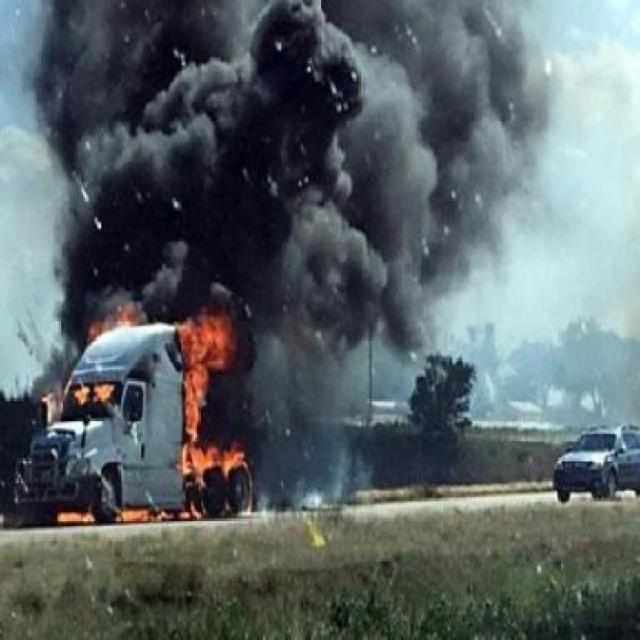Fire: (55, 306, 277, 525)
Smoke: (128, 41, 523, 289)
